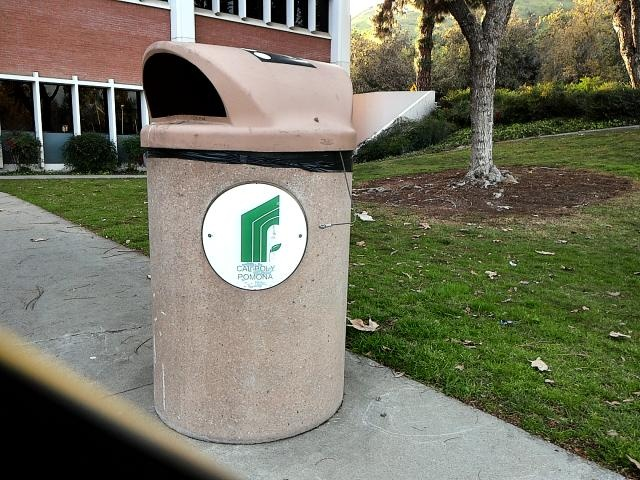trashcan: (116, 41, 371, 437)
